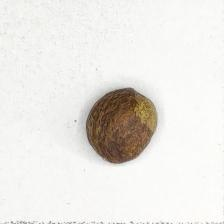NG: (127, 89, 158, 137)
